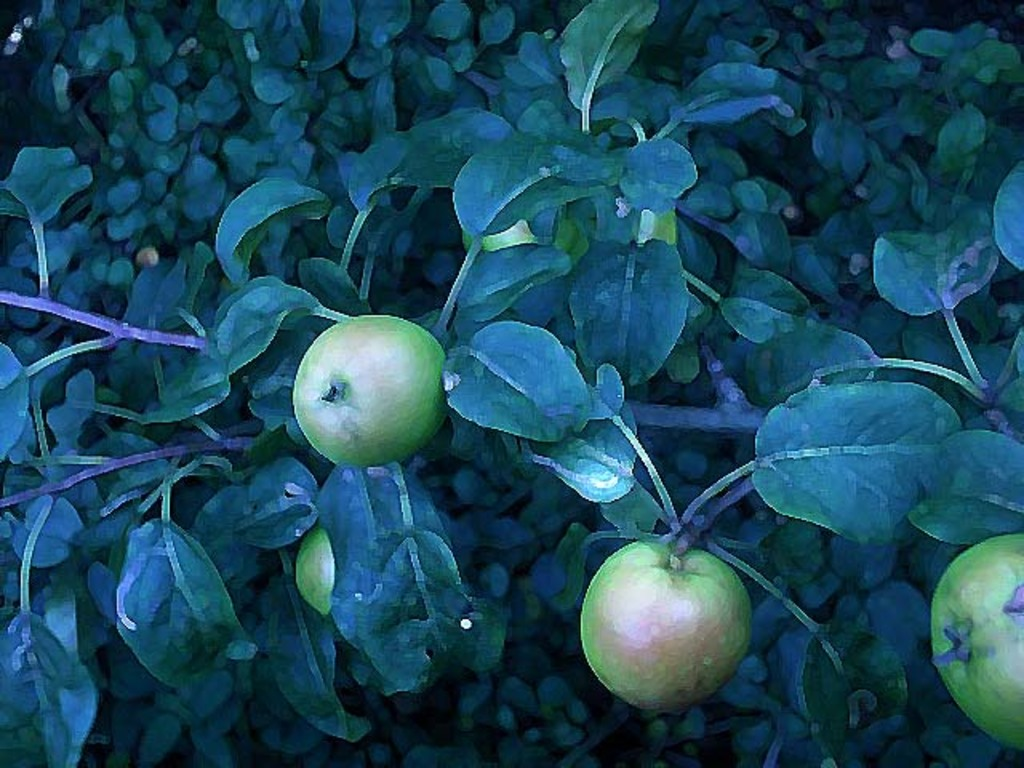Apple: (579, 545, 756, 737), (289, 313, 452, 468), (924, 529, 1022, 750), (451, 211, 684, 248), (289, 521, 339, 619)
